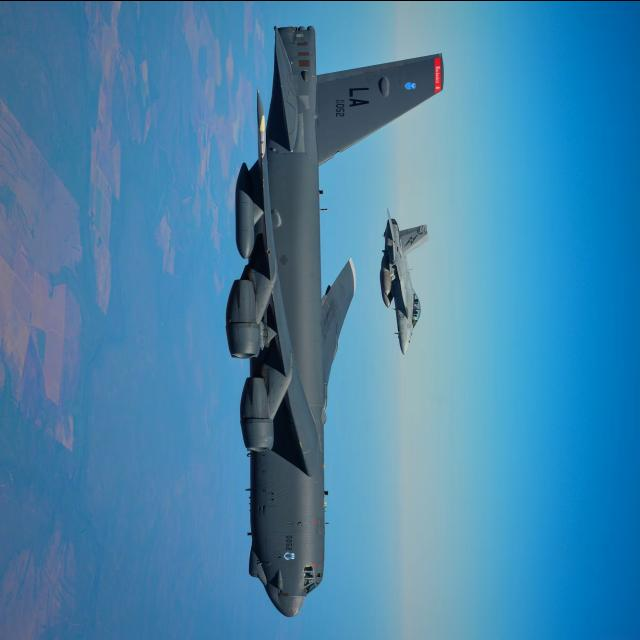B1: (214, 4, 516, 627), (359, 193, 452, 373)
